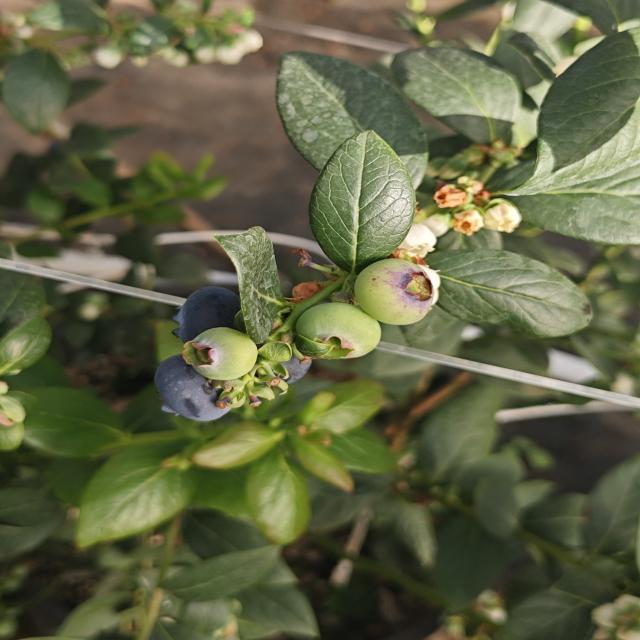ripe: (151, 352, 235, 424), (169, 284, 243, 344), (251, 342, 319, 388)
